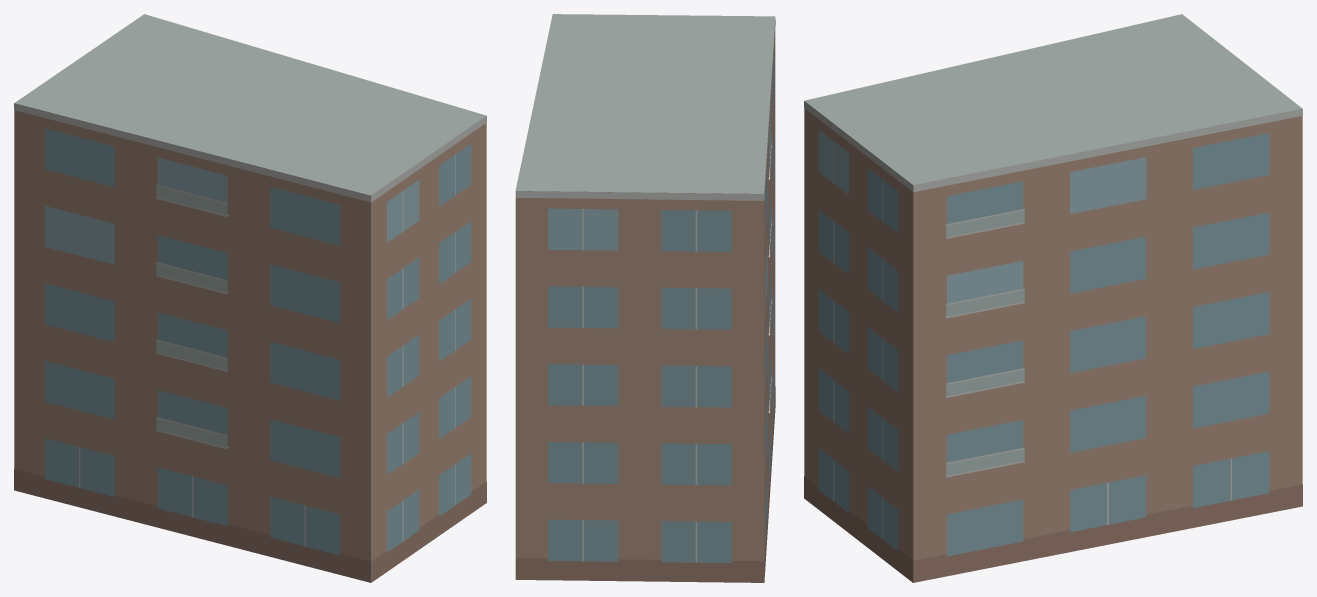
The model's file is survey-upis-33031112.glb.
3 views of the same model, side by side, from view 1: azimuth 30°, elevation 25°; view 2: azimuth 150°, elevation 25°; view 3: azimuth 270°, elevation 25° (orthographic). The views are drawn at different scales.
Parts seen in each view (by area): view 1: survey-upis-33031112.tmp; view 2: survey-upis-33031112.tmp; view 3: survey-upis-33031112.tmp.
Part boxes in pixels (<box>): survey-upis-33031112.tmp: <box>14,14,486,582</box>; survey-upis-33031112.tmp: <box>515,14,775,582</box>; survey-upis-33031112.tmp: <box>804,14,1302,582</box>.
Size of the model in its own units: 12.66 by 13.7 by 15.58.
